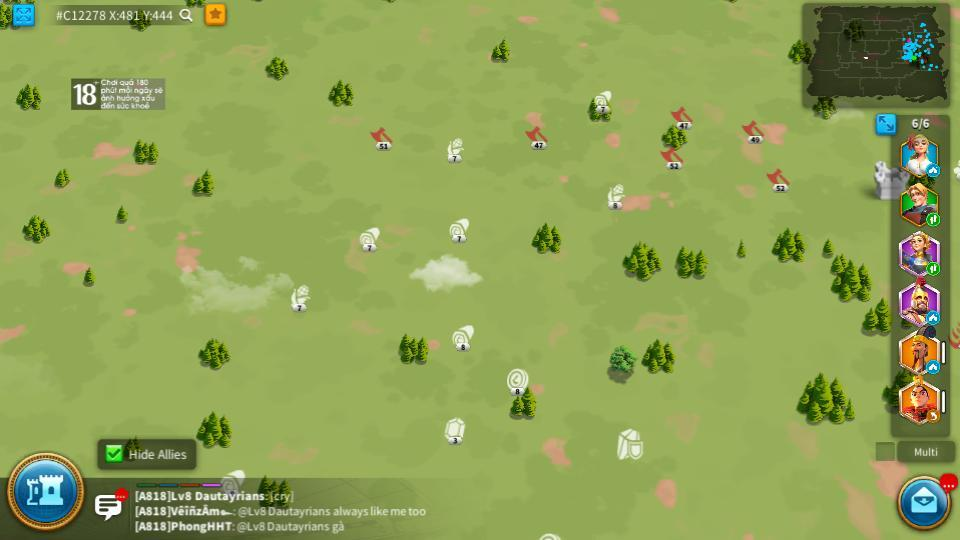gem-z-out: (443, 417, 467, 442), (229, 469, 246, 479), (538, 533, 563, 539)
march_idle: (925, 164, 941, 175), (927, 312, 940, 324), (927, 362, 940, 373)
march_marching: (925, 263, 938, 275), (927, 216, 940, 227)
march_returning: (926, 411, 940, 422)
